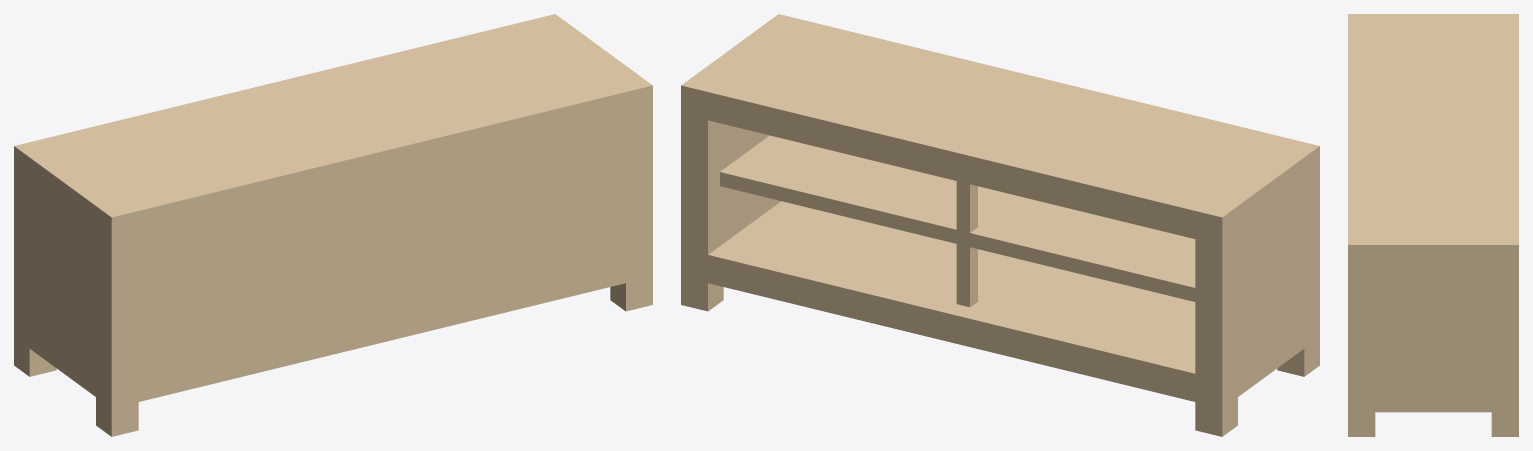
File: cabinet.glb
The picture shows the model from 3 angles, left to right: view 1: azimuth 30°, elevation 25°; view 2: azimuth 150°, elevation 25°; view 3: azimuth 270°, elevation 25°; orthographic projection. The views are drawn at different scales.
Visible parts, largest first — view 1: cabinetTelevision; view 2: cabinetTelevision; view 3: cabinetTelevision.
Boxes of the visible parts, left/top/right/bottom form: cabinetTelevision: left=14, top=14, right=652, bottom=436; cabinetTelevision: left=681, top=14, right=1319, bottom=436; cabinetTelevision: left=1348, top=14, right=1518, bottom=436.
Size of the model in its own units: 8 by 3.1 by 2.5.
